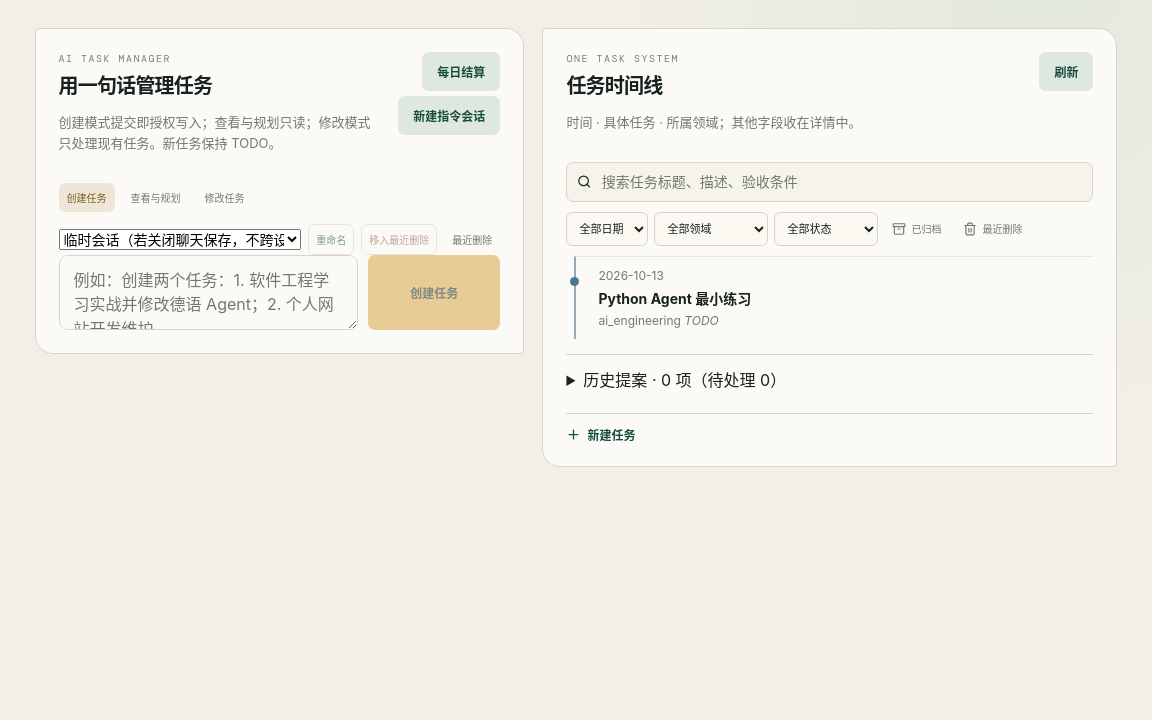
Test: AI-first task manager workspace › shows a compact timeline and submits natural-language instructions to the dedicated endpoint
Check: the text "Python Agent 最小练习" is shown, box x1=598 y1=290 x2=751 y2=307
Check: the text "2026-10-13" is shown, box x1=598 y1=268 x2=664 y2=283
In the text box named "AI 任务管理员输入": (208, 292) x1=59 y1=255 x2=358 y2=330, type "建议一下我今天先做什么"
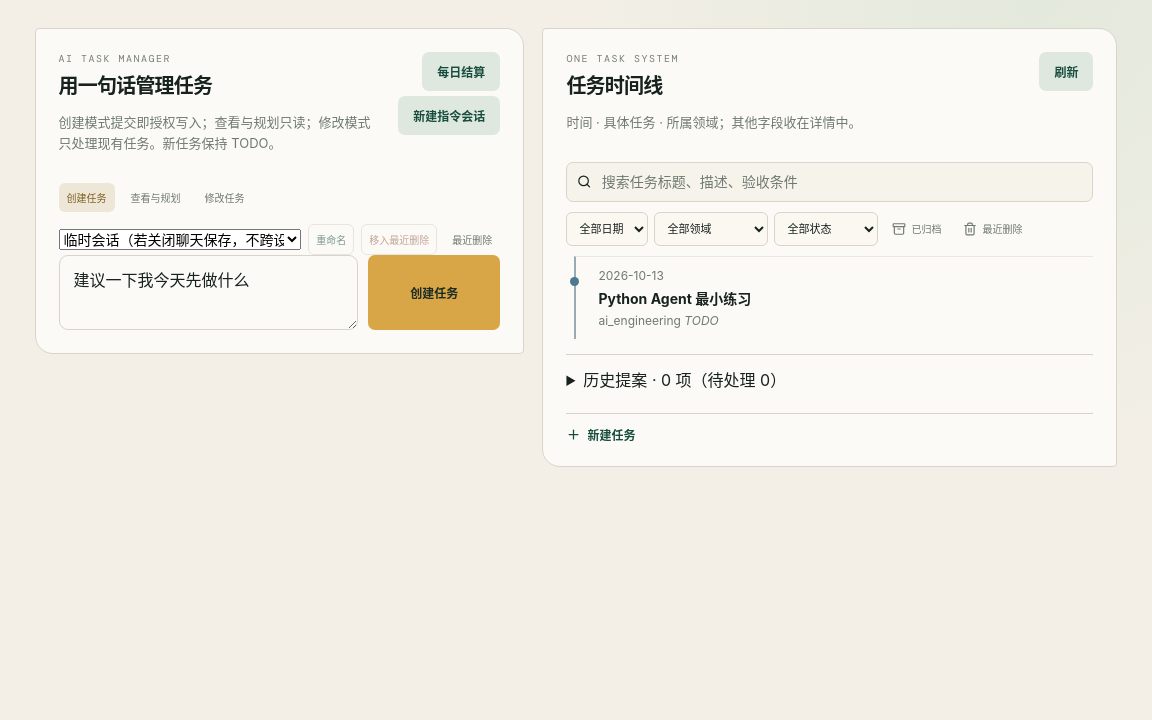
Click the 2nd button "创建任务": (434, 292) x1=368 y1=255 x2=500 y2=330
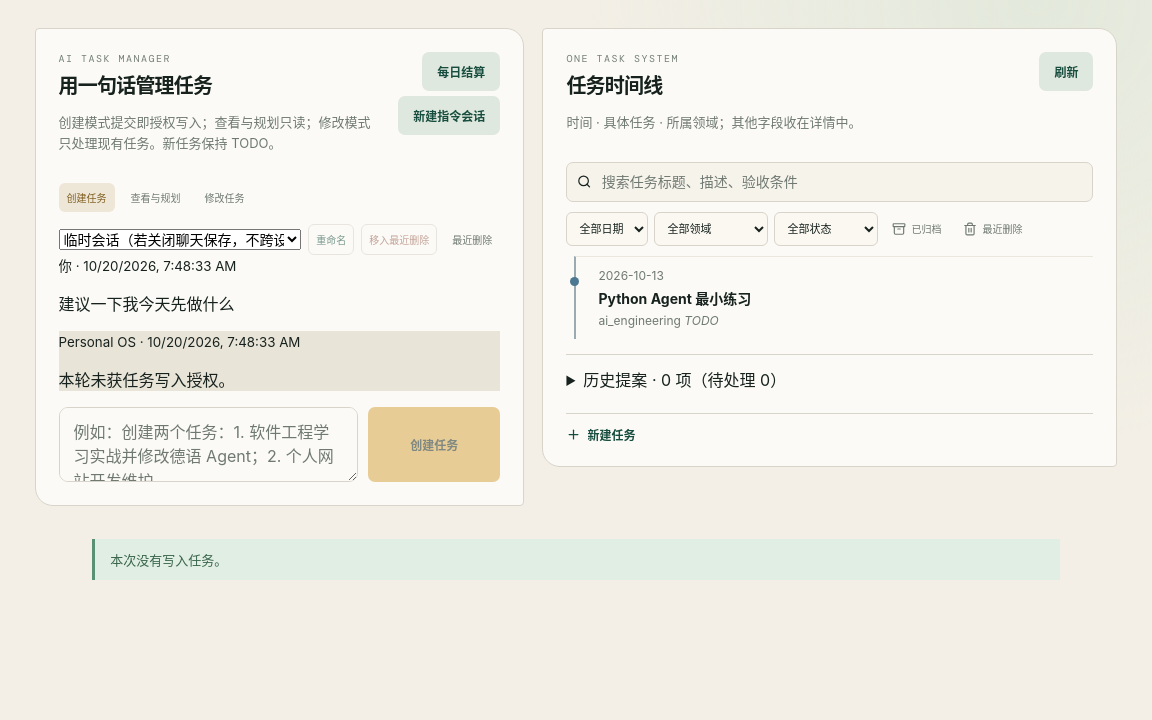
Check: the text "本轮未获任务写入授权。" is shown, box x1=59 y1=370 x2=235 y2=390
